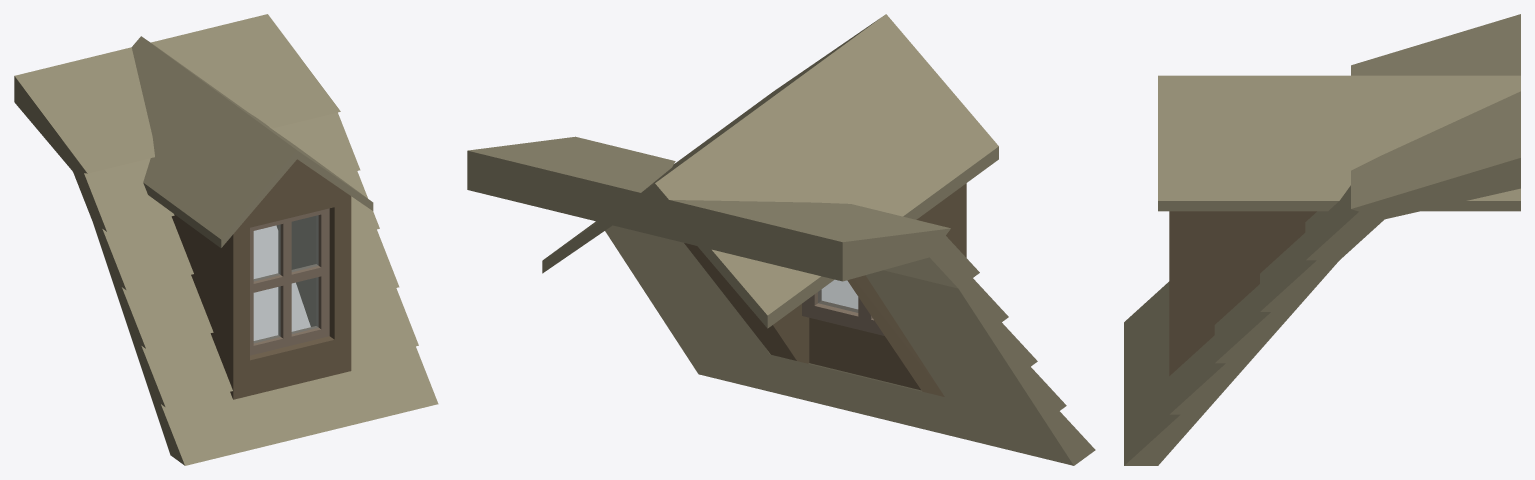
File: victorian_roof_1_window_small.fbx
3 renders of one model, left to right at view 1: azimuth 30°, elevation 25°; view 2: azimuth 150°, elevation 25°; view 3: azimuth 270°, elevation 25°, orthographic. The views are drawn at different scales.
Visible parts, largest first — view 1: Cube.252; view 2: Cube.252; view 3: Cube.252.
Boxes of the visible parts, <box> form: Cube.252: <box>14,14,438,465</box>; Cube.252: <box>467,14,1095,465</box>; Cube.252: <box>1124,14,1520,465</box>.
Bounding box in the file's own units: 300 × 310 × 350.
